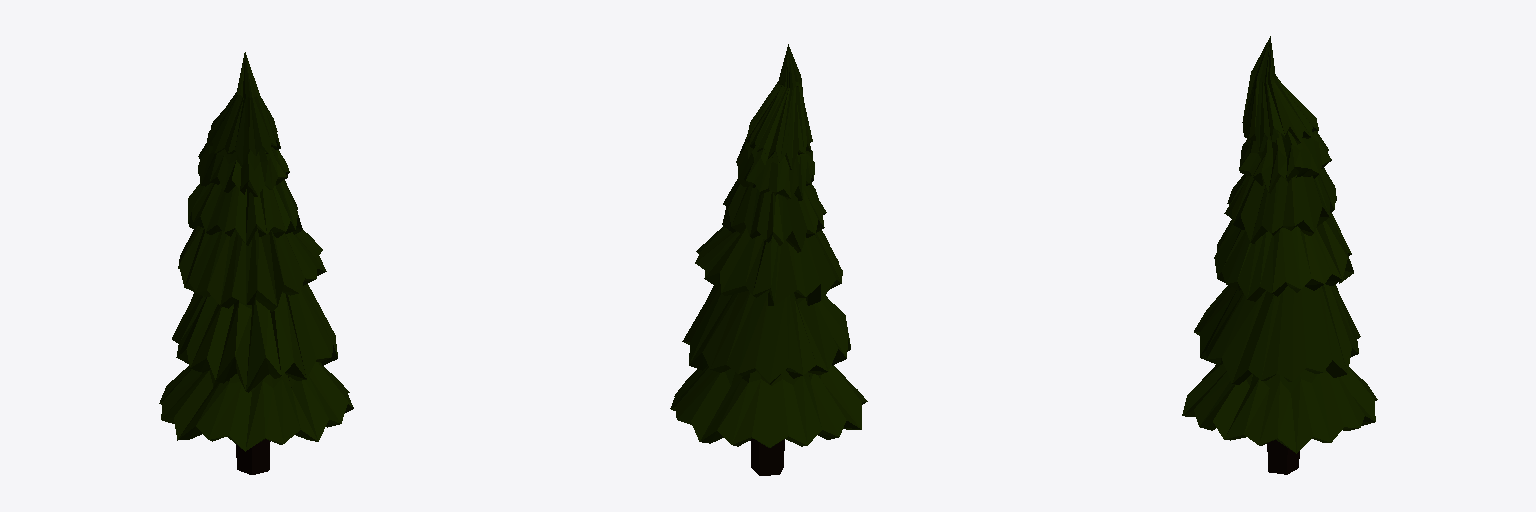
The model's file is Pine_06.obj.
3 renders of one model, left to right at view 1: azimuth 30°, elevation 25°; view 2: azimuth 150°, elevation 25°; view 3: azimuth 270°, elevation 25°, orthographic.
Parts seen in each view (by area): view 1: Cylinder.001, Cylinder; view 2: Cylinder.001, Cylinder; view 3: Cylinder.001, Cylinder.
Boxes of the visible parts, box(x1,y1,x2,y2) form: Cylinder.001: box(159, 52, 353, 451); Cylinder: box(236, 439, 270, 474); Cylinder.001: box(670, 44, 867, 447); Cylinder: box(750, 439, 784, 475); Cylinder.001: box(1182, 36, 1377, 453); Cylinder: box(1267, 440, 1299, 474).
Size of the model in its own units: 2.85 by 6.72 by 2.8.